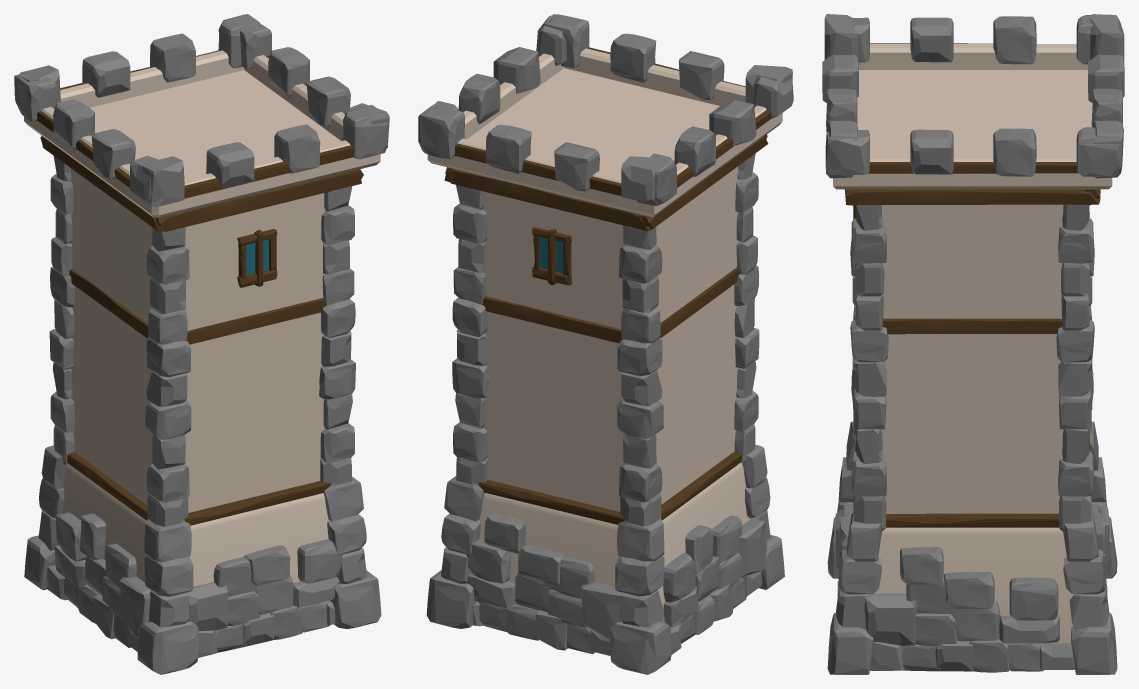
Rendered from SM_turret_02.fbx.
3 renders of one model, left to right at view 1: azimuth 30°, elevation 25°; view 2: azimuth 150°, elevation 25°; view 3: azimuth 270°, elevation 25°, orthographic. The views are drawn at different scales.
Visible parts, largest first — view 1: Object32397; view 2: Object32397; view 3: Object32397.
Boxes of the visible parts, bbox=[...] form: Object32397: bbox=[14, 14, 389, 674]; Object32397: bbox=[418, 14, 793, 674]; Object32397: bbox=[822, 14, 1124, 674].
Size of the model in its own units: 298 by 592 by 298.
